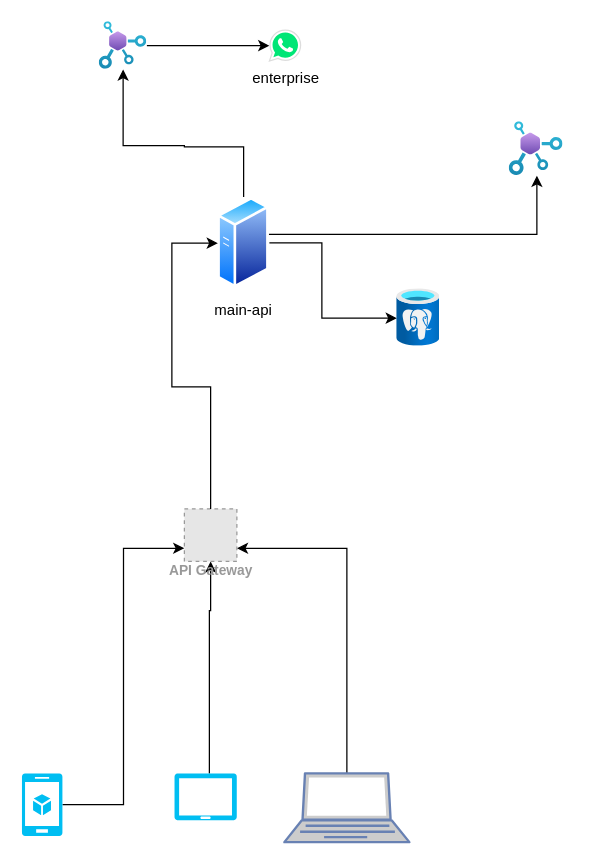
Image size: 608x865. Some labels were removed from this diagram. Grey dashed boxes stand in for pictures. The shapes that lost their labels are listed below. From the top down, each one's centre as x and y in pixels, then its label:
(x=122, y=45): meta-whatsapp
(x=535, y=148): openai-chatgpt
